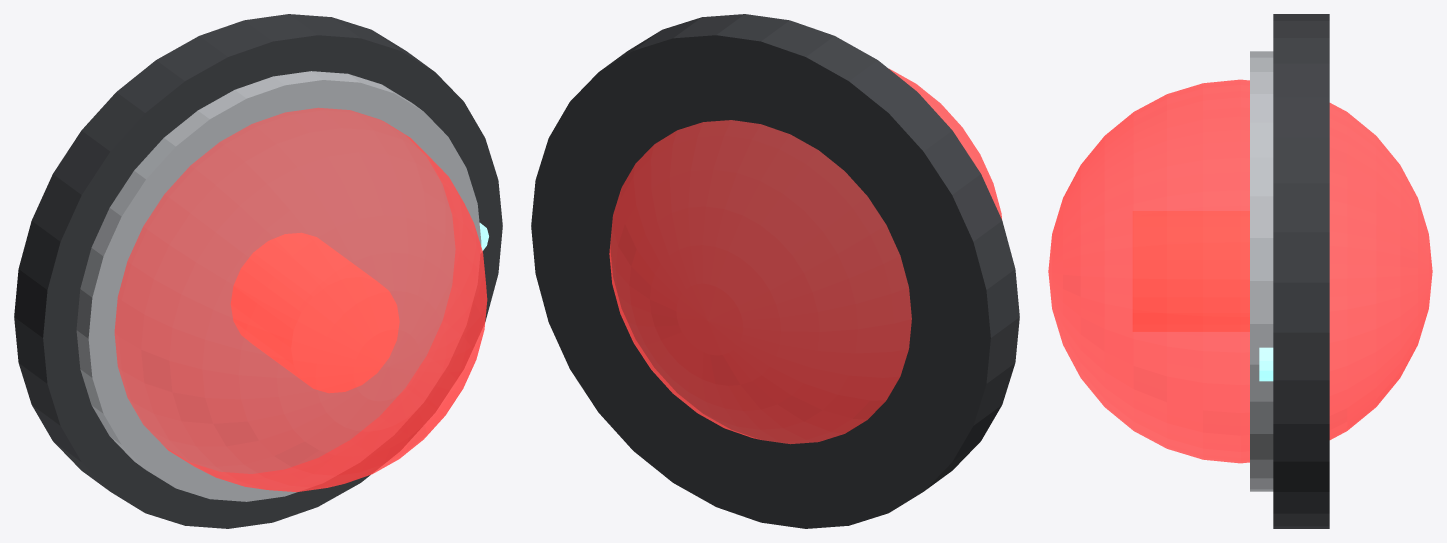
The model's file is ALARM.glb.
3 views of the same model, side by side, from view 1: azimuth 30°, elevation 25°; view 2: azimuth 150°, elevation 25°; view 3: azimuth 270°, elevation 25° (orthographic). The views are drawn at different scales.
Visible parts, largest first — view 1: alarm_ring, alarm_dome, alarm_base, alarm_beacon; view 2: alarm_base, alarm_dome; view 3: alarm_dome, alarm_base, alarm_beacon, alarm_ring, alarm_status.
Part boxes in pixels (<box>): alarm_ring: <box>76,71,481,501</box>; alarm_dome: <box>114,107,487,492</box>; alarm_base: <box>14,14,502,528</box>; alarm_beacon: <box>231,233,399,392</box>; alarm_base: <box>531,14,1019,528</box>; alarm_dome: <box>609,68,1001,443</box>; alarm_dome: <box>1048,79,1432,463</box>; alarm_base: <box>1273,14,1329,528</box>; alarm_beacon: <box>1133,211,1249,331</box>; alarm_ring: <box>1250,51,1273,491</box>; alarm_status: <box>1259,347,1273,381</box>.
Bounding box in the file's own units: 0.11 × 0.11 × 0.082.
